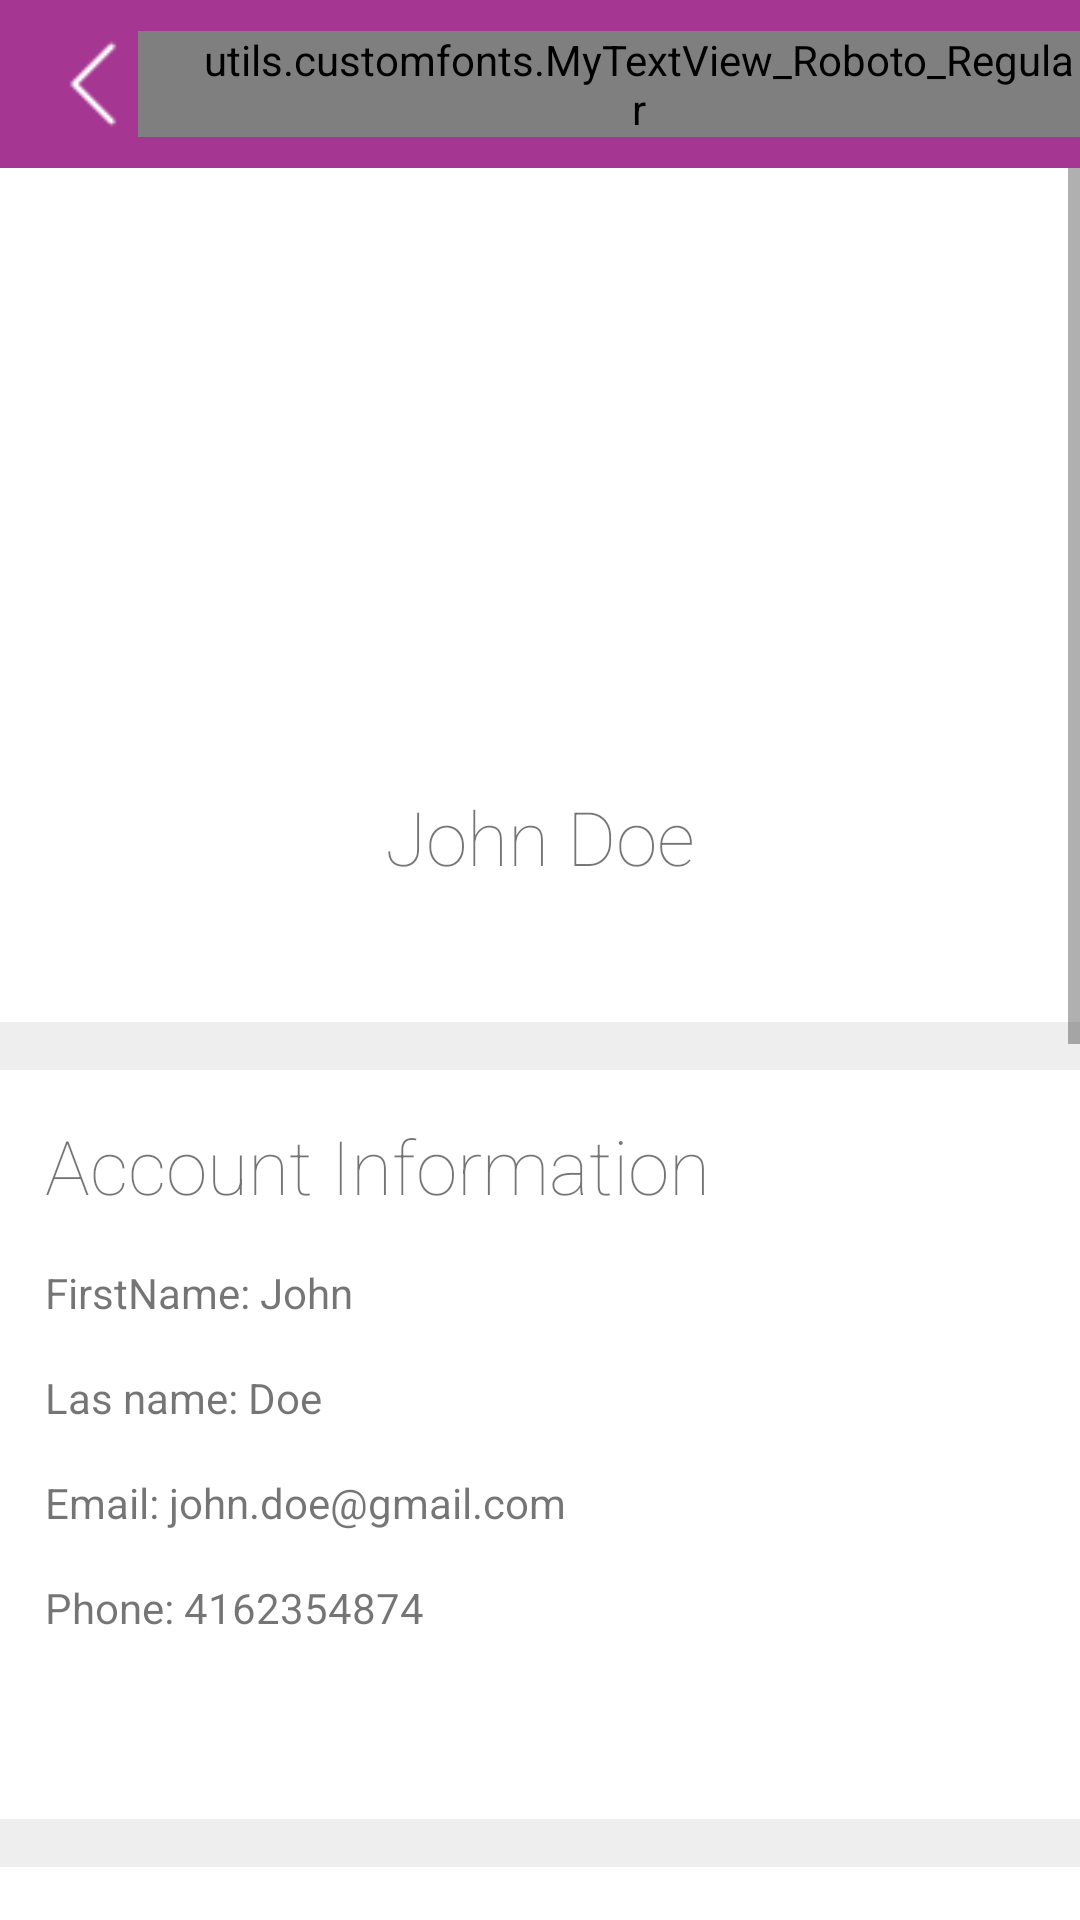

Locate icon controls on the screen. Image size 1080px×1920px, boxes as (x1, y1, x2, y2).
left arrow: (70, 42, 116, 126)
